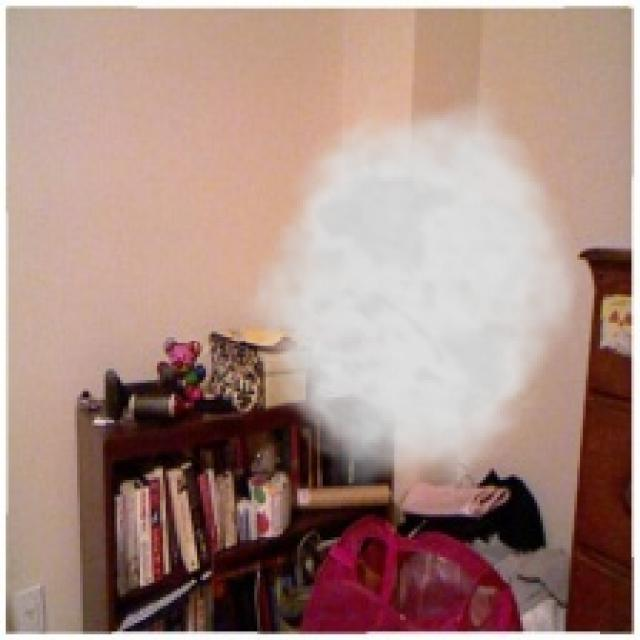smoke: (237, 86, 589, 494)
